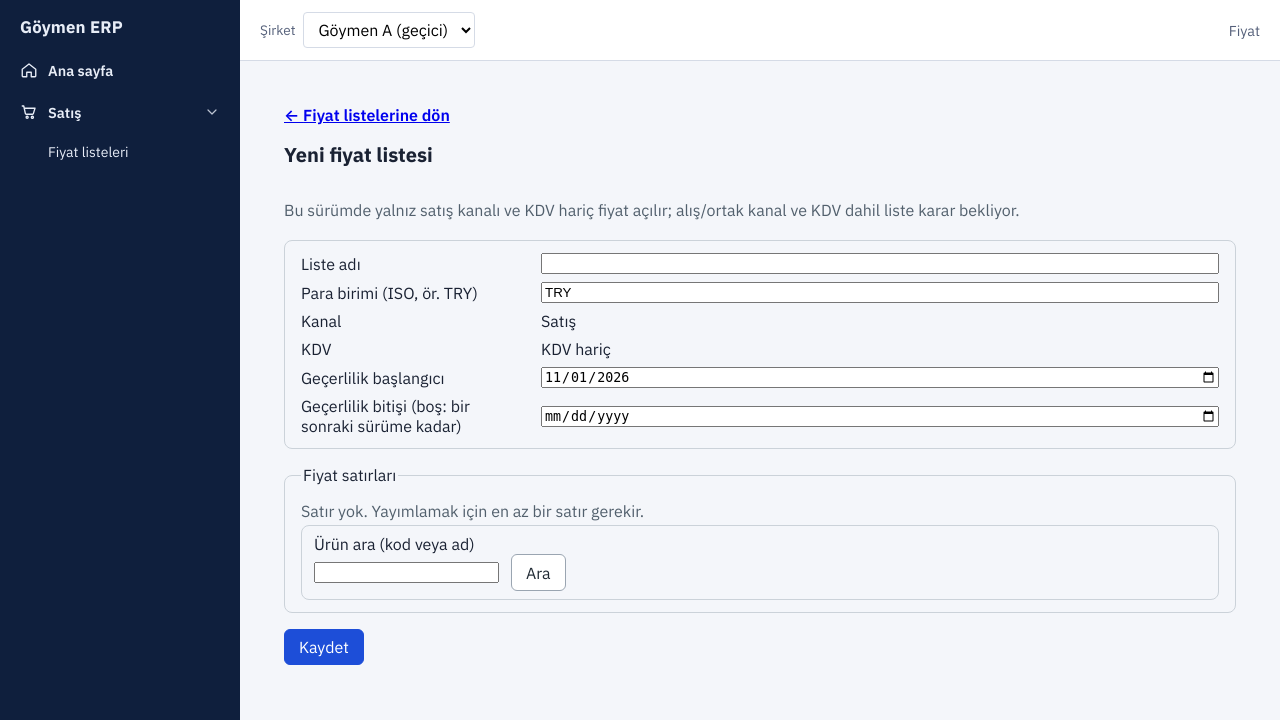
Test: U-05 price lists › reports a product-option 403 to the central auth boundary
Expected: the field labelled "Ürün ara (kod veya ad)" is shown, [314,562,499,583]
Click the button "Ara".
click(538, 572)  # box [511,554,566,591]
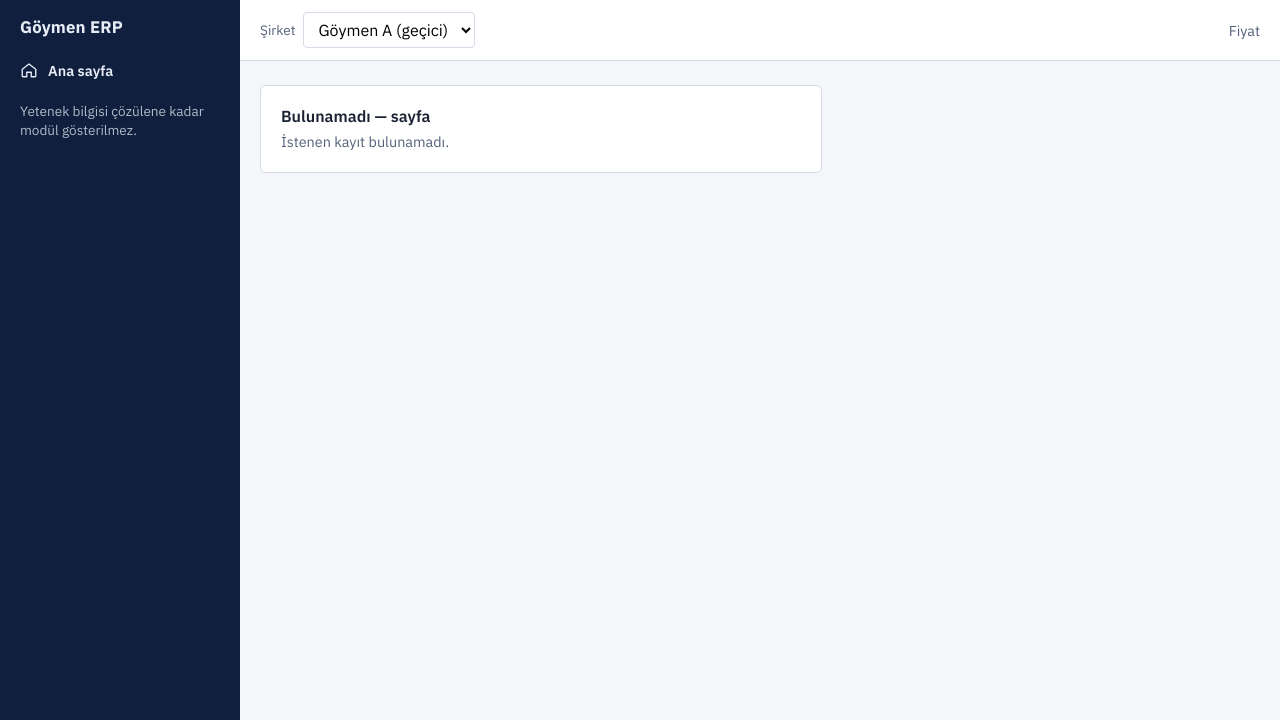
Expected: the message "Bulunamadı — sayfa İstenen kayıt bulunamadı." is shown, [260,85,822,173]
Expected: the label labelled "Ürün ara (kod veya ad)" is gone
